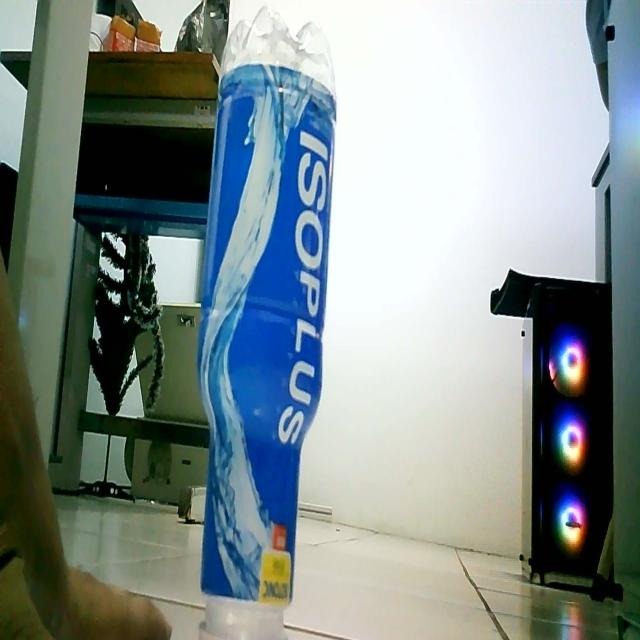botol: (187, 4, 346, 640)
